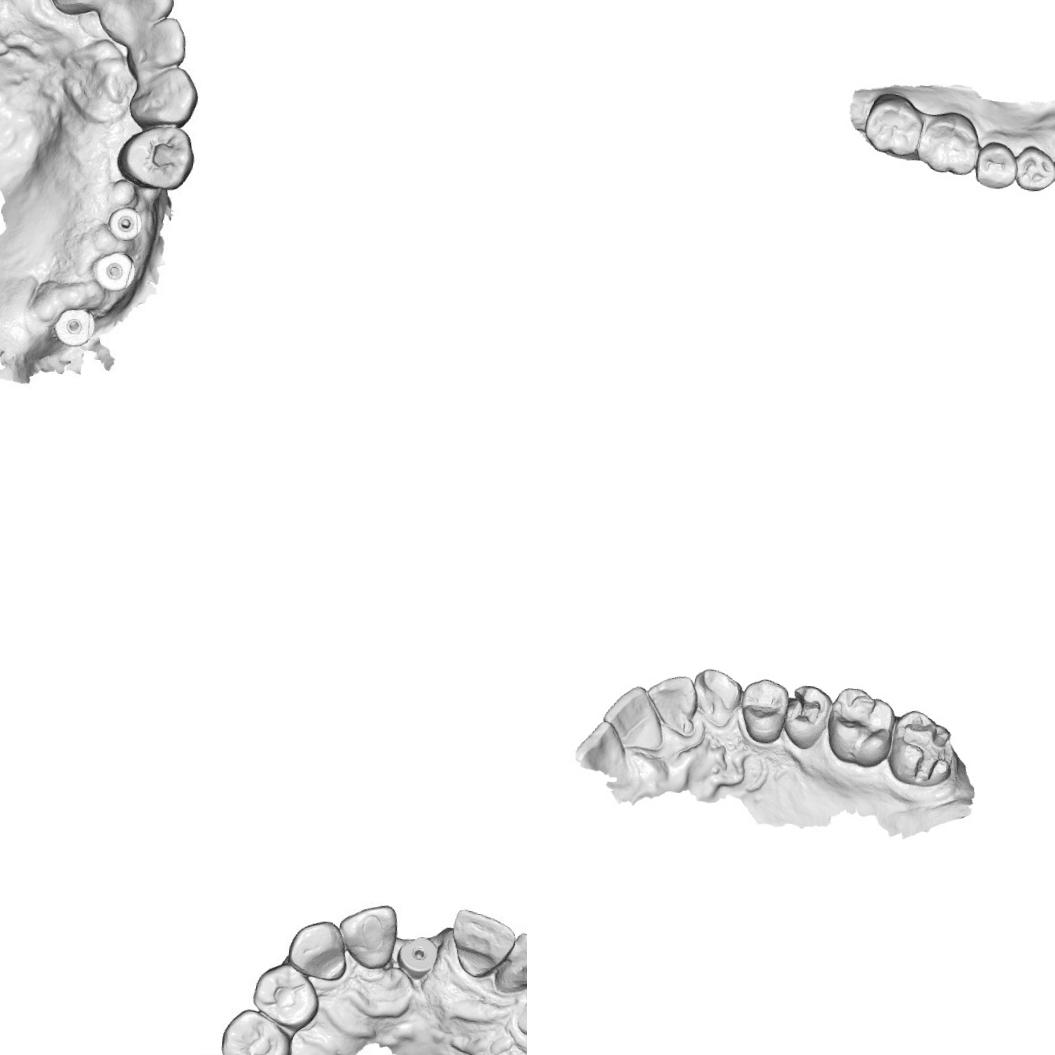canine: (125, 67, 198, 132), (284, 918, 348, 984), (690, 666, 744, 729), (512, 972, 527, 1042)
implant: (394, 934, 440, 985), (52, 300, 98, 346), (91, 248, 134, 294), (105, 202, 150, 244)
incisor: (444, 905, 518, 986), (332, 899, 400, 972), (599, 682, 669, 752), (640, 671, 701, 740), (572, 717, 633, 782), (128, 18, 190, 80), (98, 0, 178, 46), (489, 928, 527, 996)
inlay: (894, 717, 955, 788), (784, 687, 824, 730)
molar: (824, 684, 898, 770), (912, 106, 986, 180), (858, 88, 927, 162)
premolar: (114, 119, 200, 196), (244, 959, 325, 1031), (215, 1005, 299, 1055), (736, 675, 792, 747), (973, 139, 1020, 192), (1011, 141, 1055, 195)
